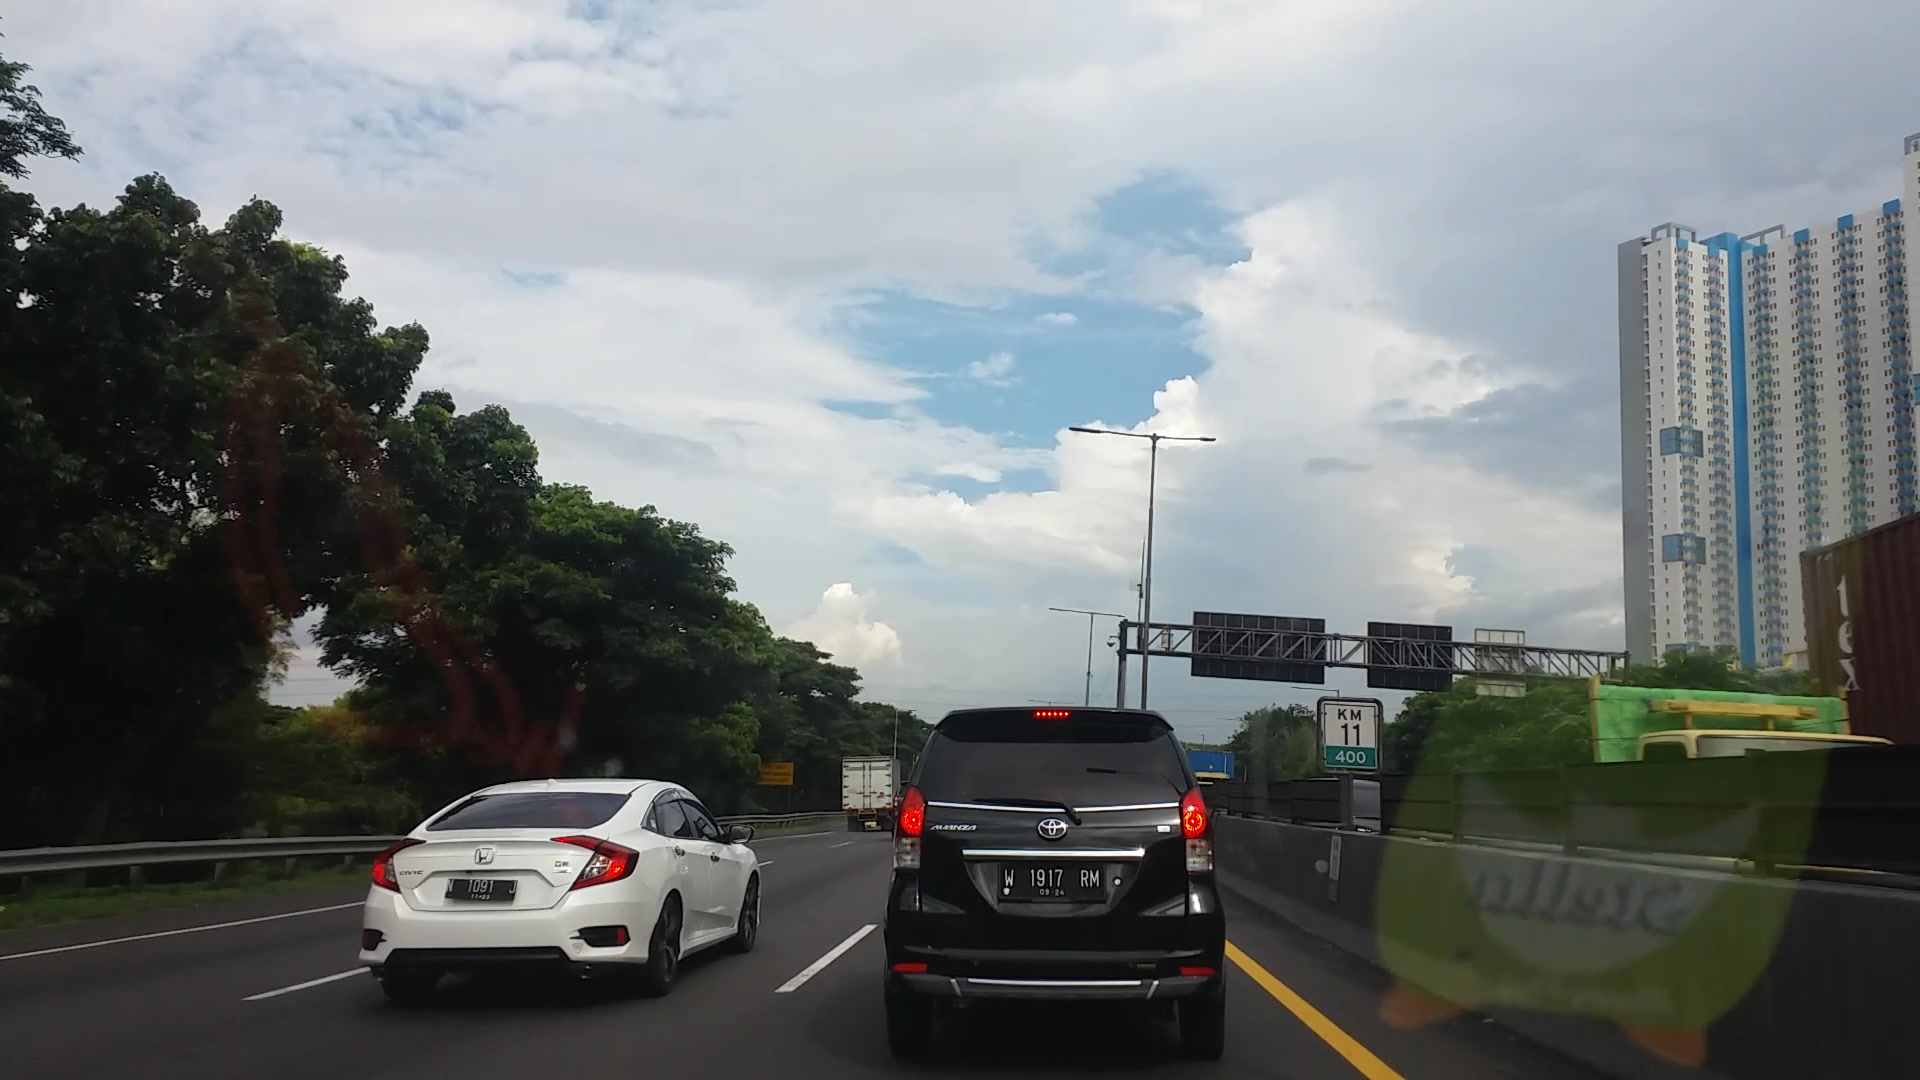plate_positive: (1000, 865, 1102, 898)
